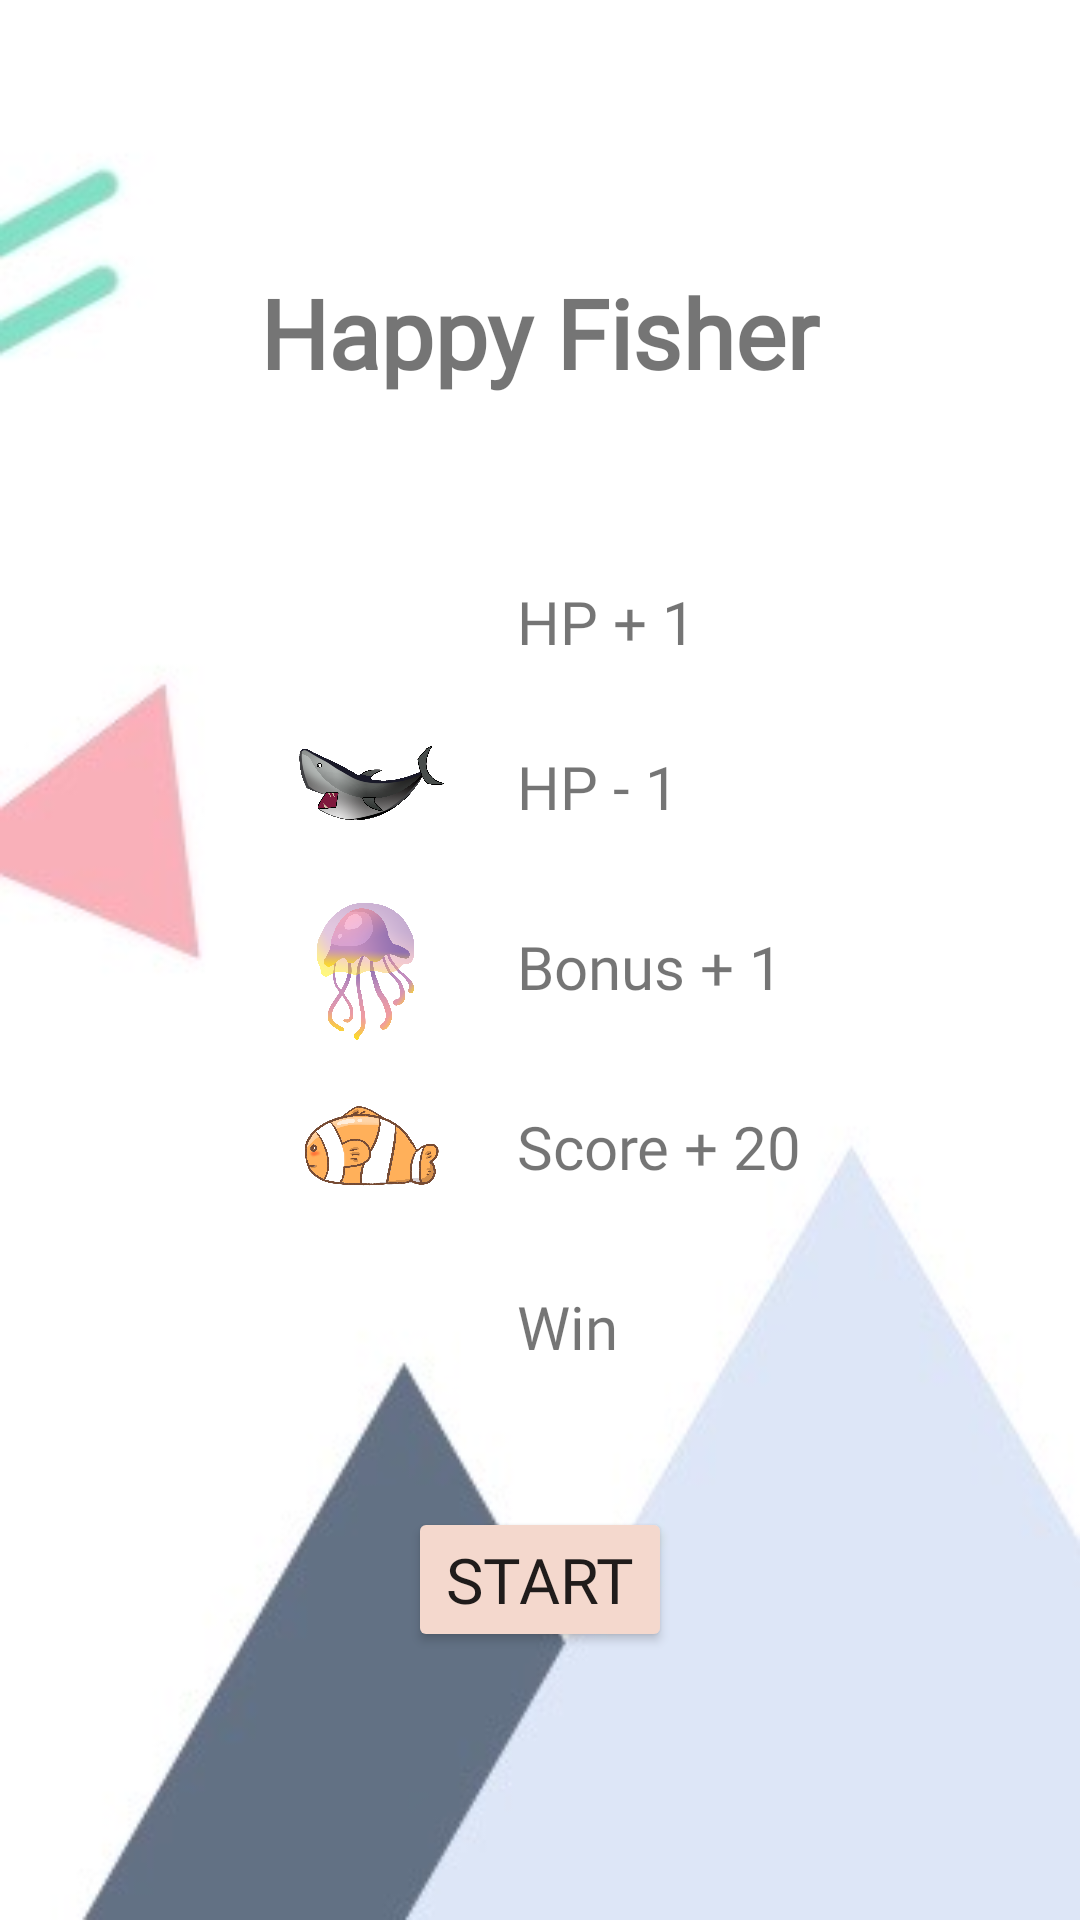

Point at icon controls on the screen. Image size 1080px×1920px, points as (x,y).
fish: (372,1146)
jelly: (365,971)
shark: (371,783)
